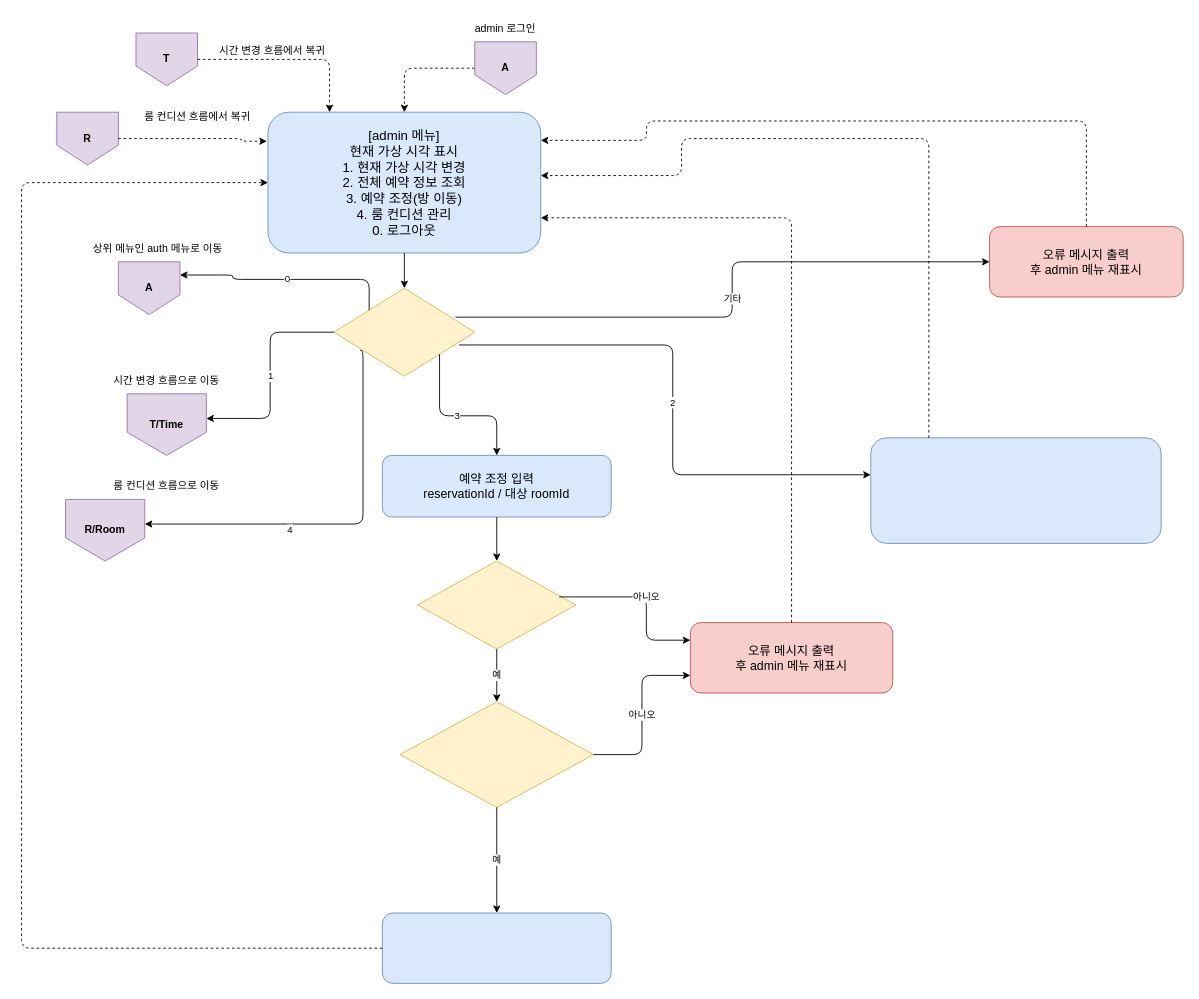
The diagram is 1199 pixels wide and 999 high, and some of its shapes have lost their labels. The shapes that lost their labels are listed below. From the top down, each one's centre as x and y in pixels, then its label:
point (404, 331): 선택값?
point (1015, 490): 전체 예약 정보 출력 date / start / room / 예약번호 순 정렬 userId + userName + status 표시
point (496, 604): 입력 형식 정상?
point (496, 754): 대상 예약/룸 유효 + OPEN + 정원/충돌 통과?
point (496, 947): 방 이동 저장 변경 전/변경 후 출력
